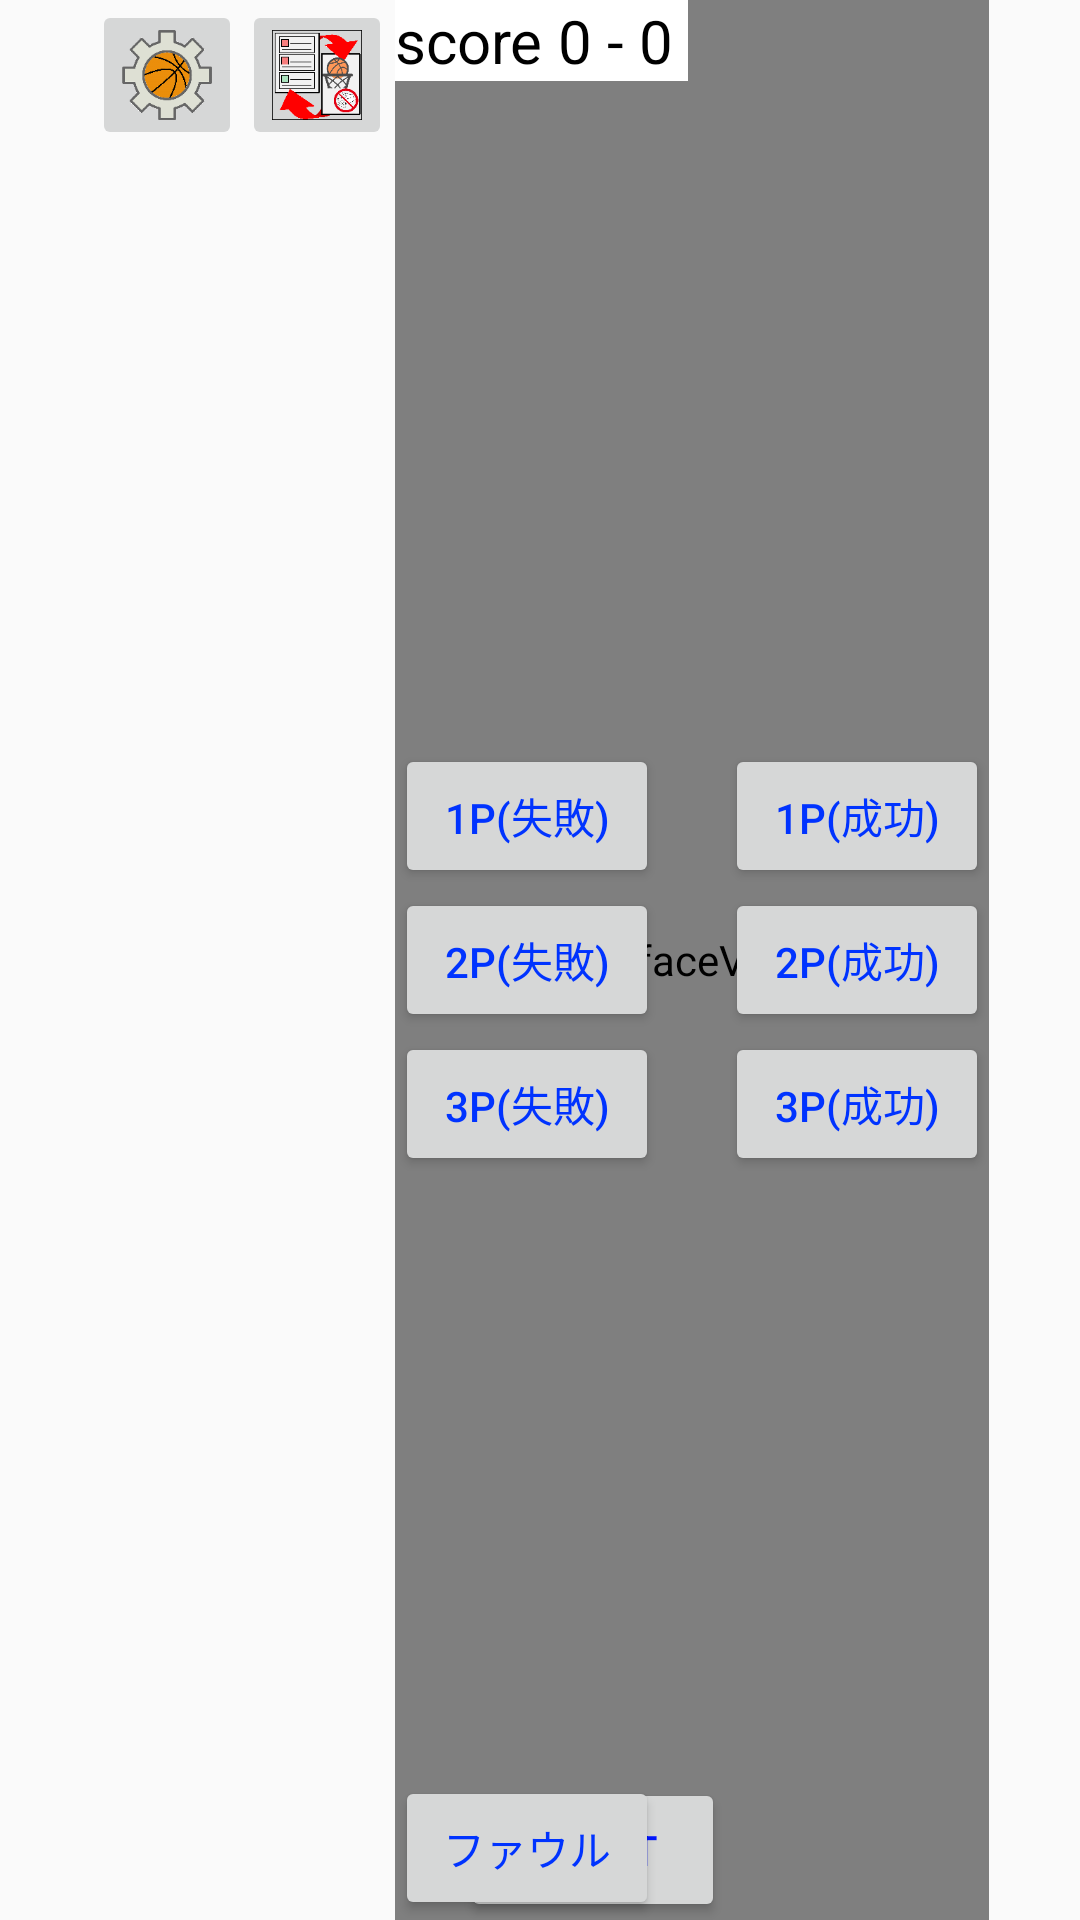

Icon bounding boxes for this 1080x1920 phone screenshot, format (x1, y1, x2, y2):
setting: (104, 18, 230, 132)
